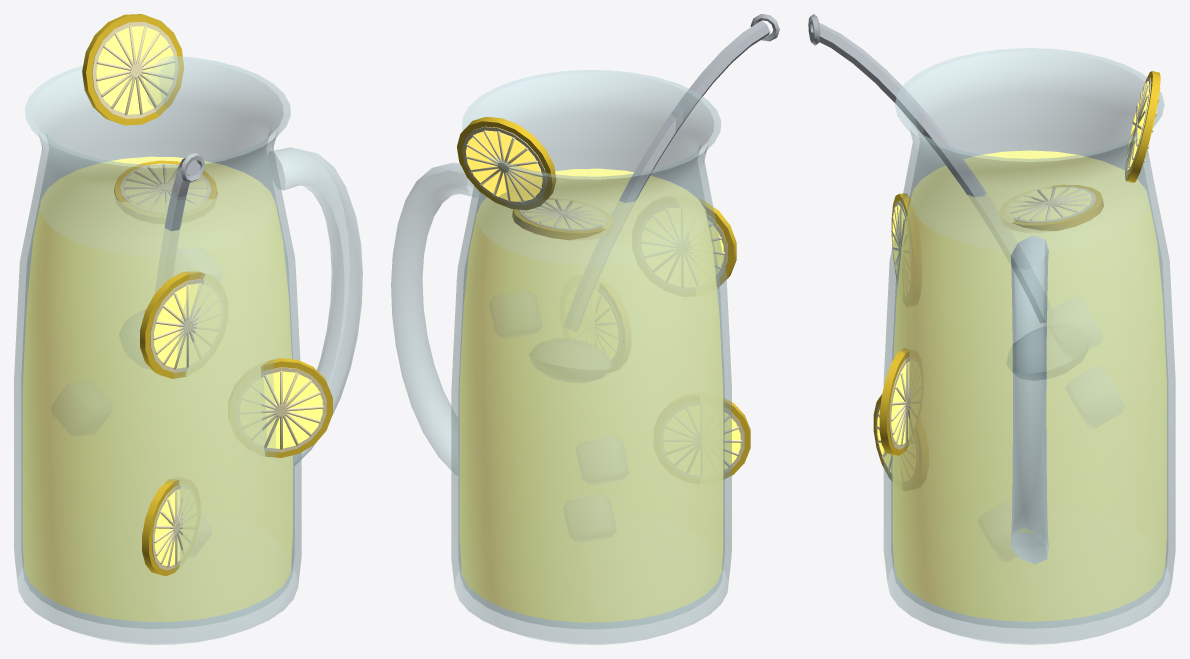
Rendered from lemonade_jug.glb.
3 views of the same model, side by side, from view 1: azimuth 30°, elevation 25°; view 2: azimuth 150°, elevation 25°; view 3: azimuth 270°, elevation 25° (orthographic). The views are drawn at different scales.
Visible parts, largest first — view 1: LemonadeJug; view 2: LemonadeJug; view 3: LemonadeJug.
Boxes of the visible parts, left/top/right/bottom form: LemonadeJug: left=14, top=14, right=362, bottom=644; LemonadeJug: left=391, top=14, right=779, bottom=644; LemonadeJug: left=808, top=14, right=1175, bottom=644.
Size of the model in its own units: 5.26 by 8.16 by 5.03.
